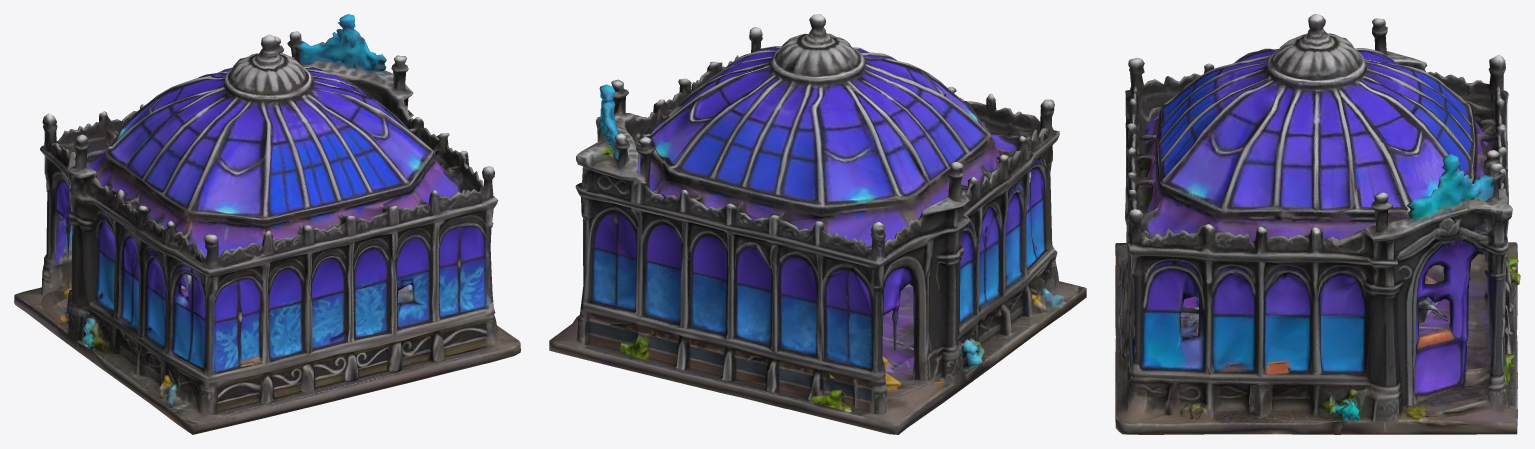
File: greenhouse.glb
3 views of the same model, side by side, from view 1: azimuth 30°, elevation 25°; view 2: azimuth 150°, elevation 25°; view 3: azimuth 270°, elevation 25° (orthographic). The views are drawn at different scales.
Size of the model in its own units: 2 by 1.65 by 1.83.
1 material, 1 textured.
